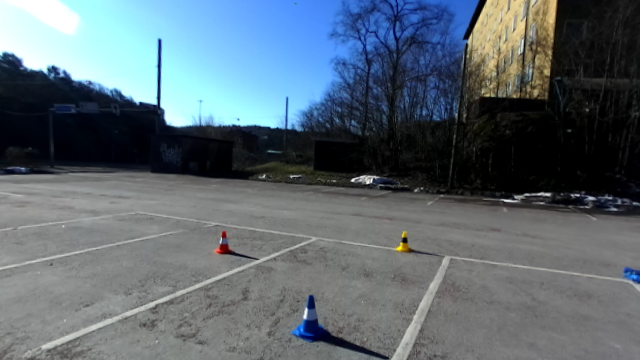blue: (293, 293, 330, 341)
orange: (213, 228, 234, 256)
yellow: (394, 229, 412, 253)
